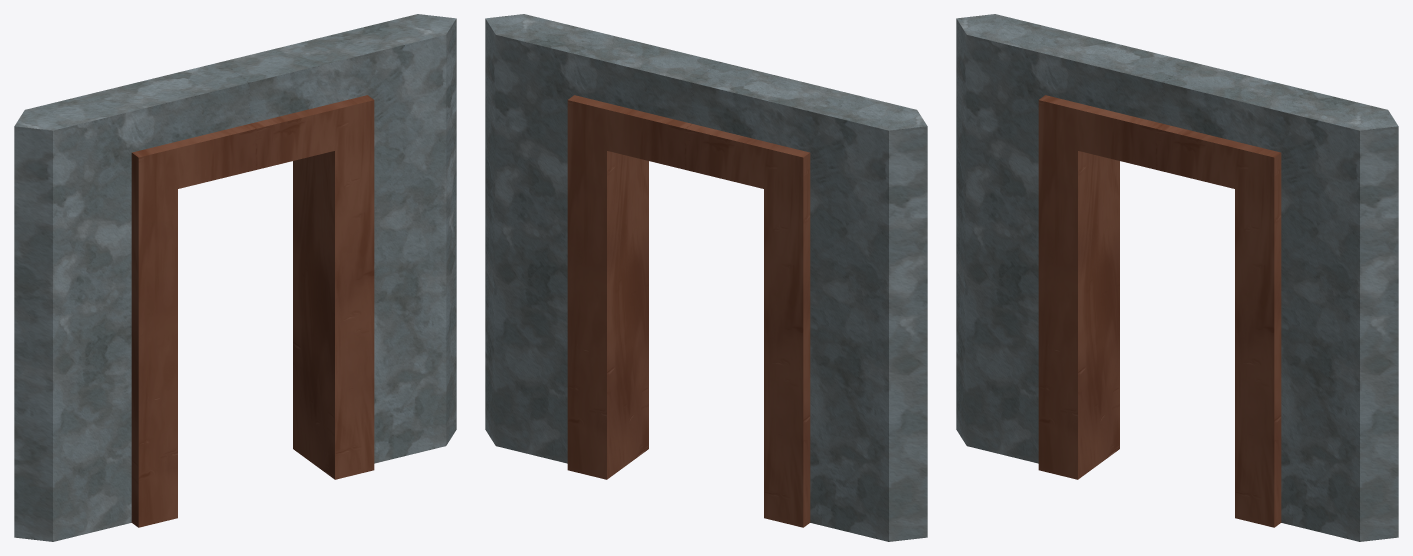
Rendered from Doorway.fbx.
The picture shows the model from 3 angles, left to right: view 1: azimuth 30°, elevation 25°; view 2: azimuth 150°, elevation 25°; view 3: azimuth 330°, elevation 25°; orthographic projection.
Parts seen in each view (by area): view 1: doorway; view 2: doorway; view 3: doorway.
Boxes of the visible parts, left/top/right/bottom form: doorway: left=14, top=14, right=456, bottom=541; doorway: left=485, top=14, right=927, bottom=541; doorway: left=956, top=14, right=1398, bottom=541.
Size of the model in its own units: 11.25 by 10 by 1.85.
Materials: 2 (2 with a texture image).
